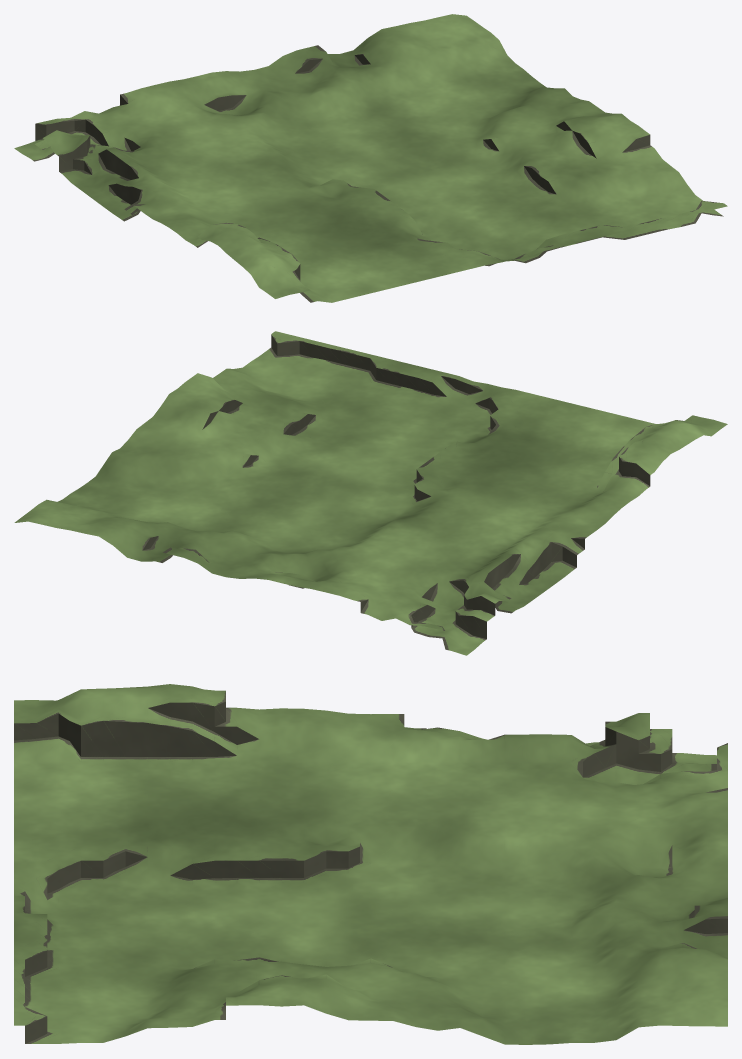
File: Chunk(-1,-1).glb
The picture shows the model from 3 angles, top to bottom: view 1: azimuth 30°, elevation 25°; view 2: azimuth 150°, elevation 25°; view 3: azimuth 270°, elevation 25°; orthographic projection. The views are drawn at different scales.
Size of the model in its own units: 64 by 7.57 by 64.
1 material, 1 textured.
